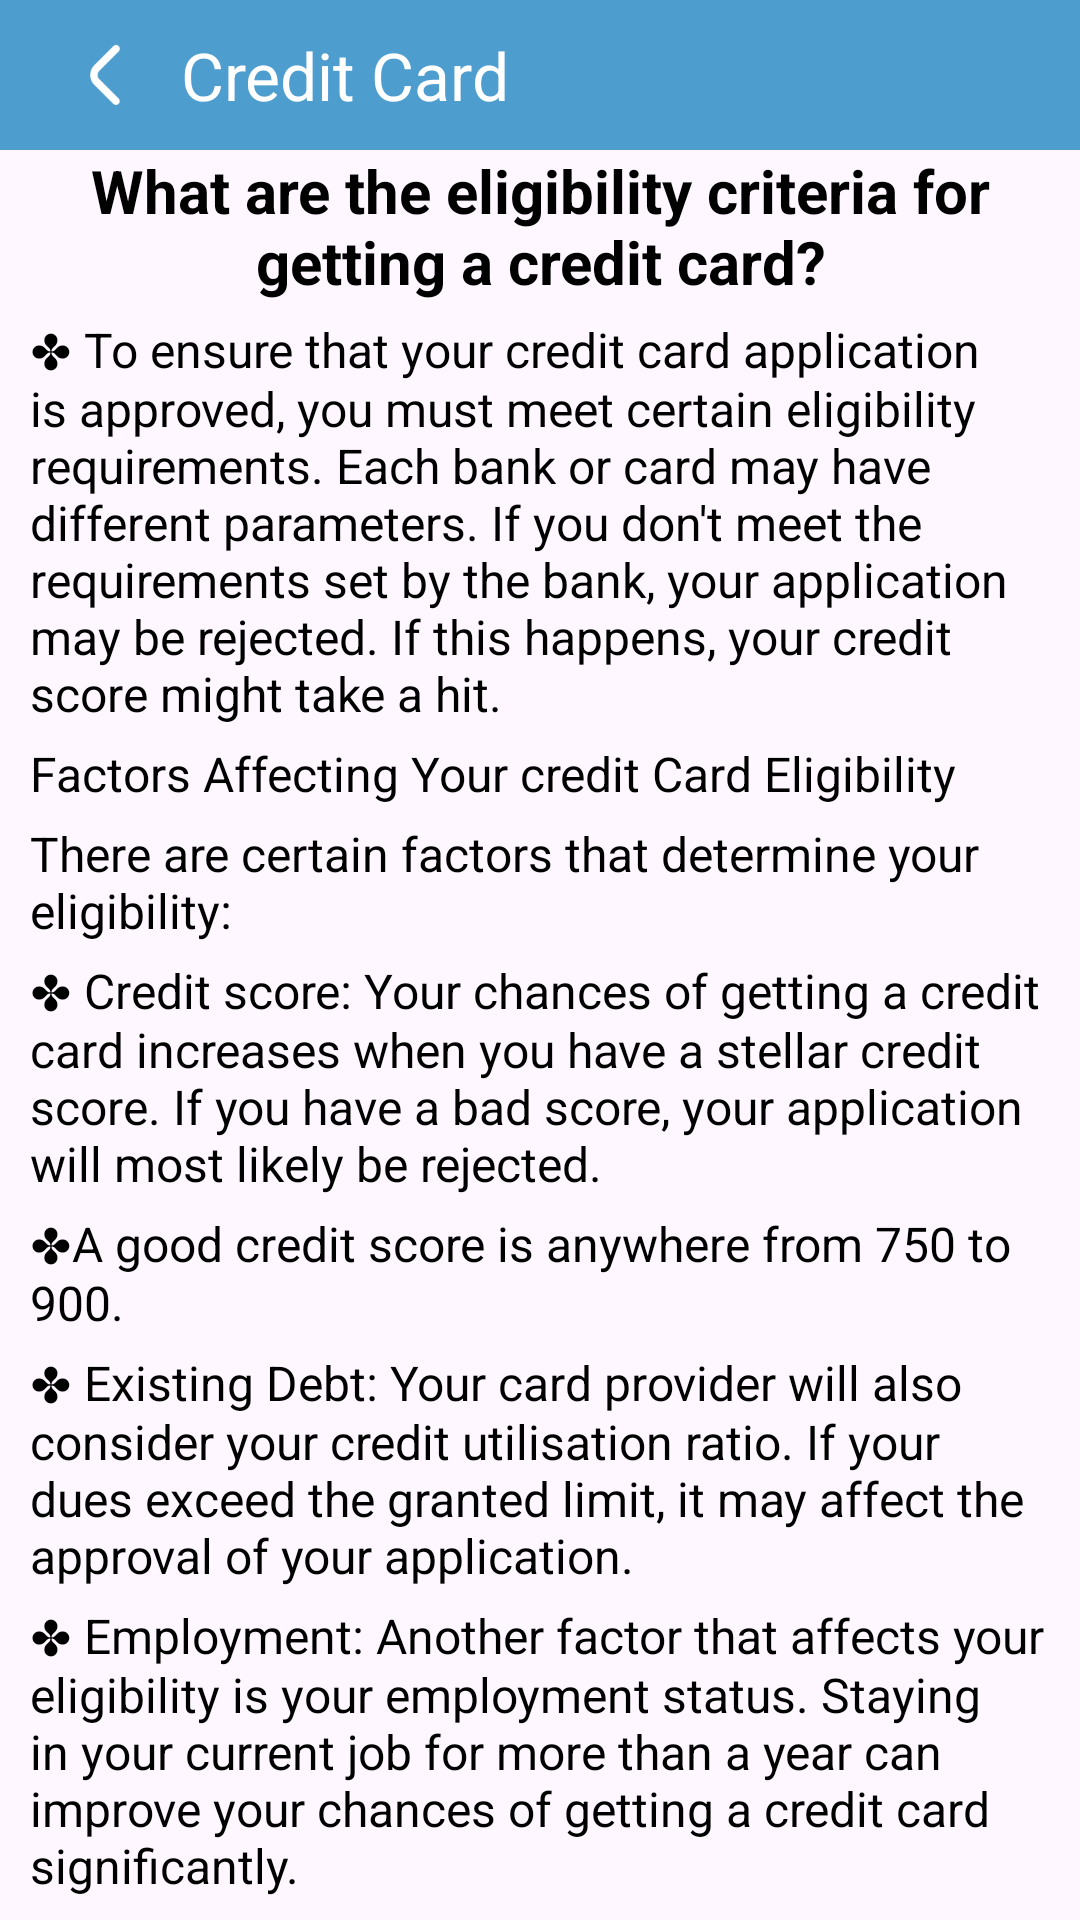

Where icons sit on this 1080*1920 app screen, as region(x1, y1, x2, y2):
back: region(90, 45, 120, 105)
